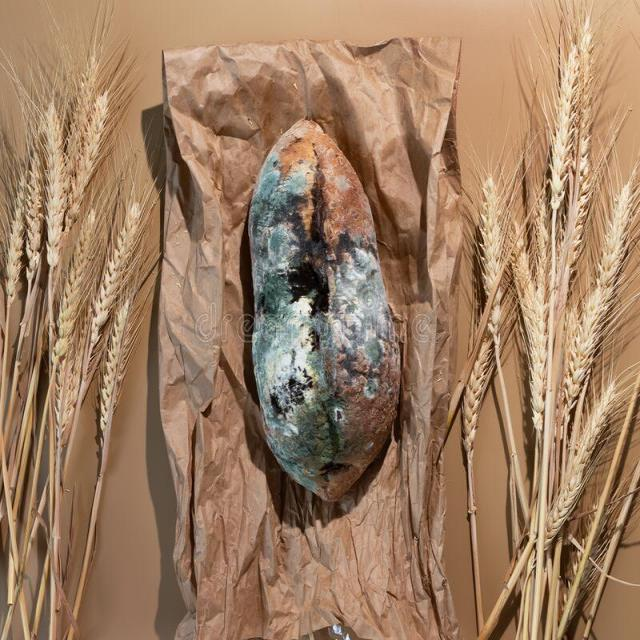Food waste: (245, 118, 393, 498)
Paper: (163, 38, 460, 640)
